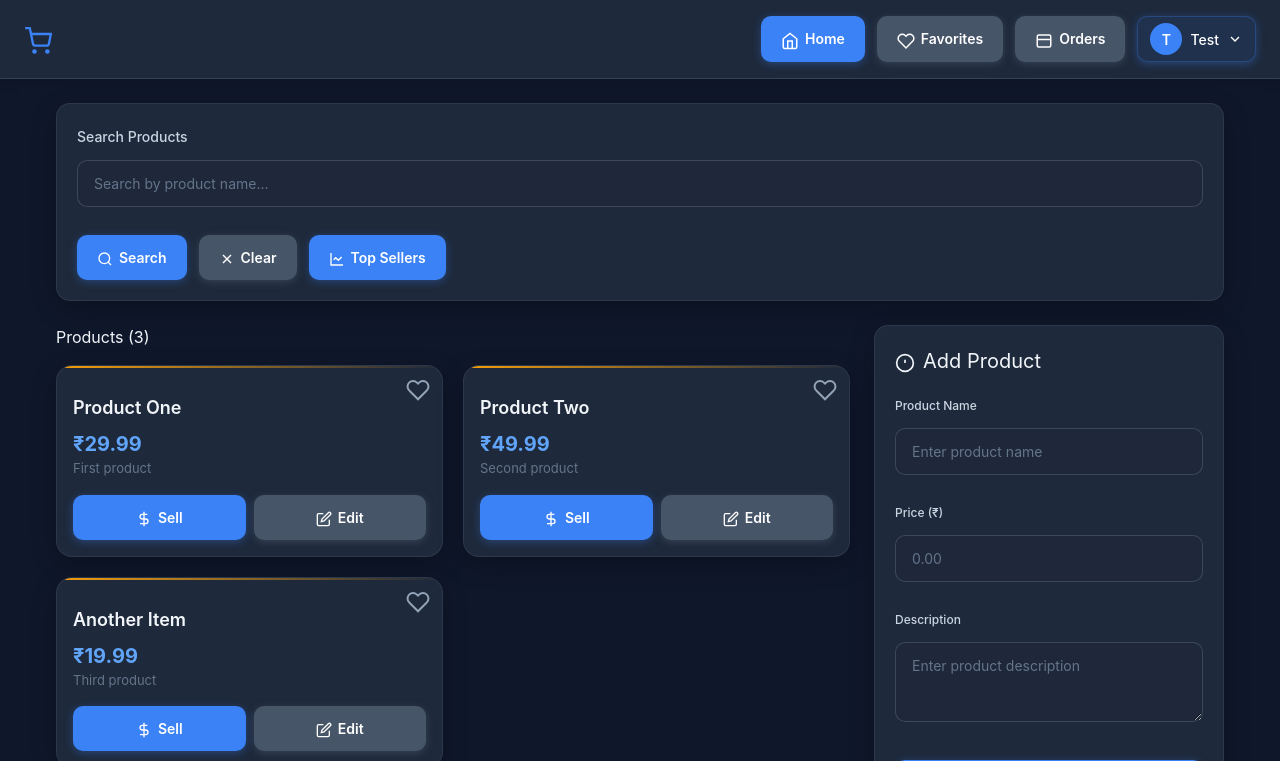
Product Management Integration Tests › TC2: Product Search › TC2.3: should clear search and show all products
Expected: the heading "Product One" is shown, [73,397,182,418]
Type "Test" into the field labelled "Search Products".
click(640, 184); type("Test")  # box [77,160,1203,207]
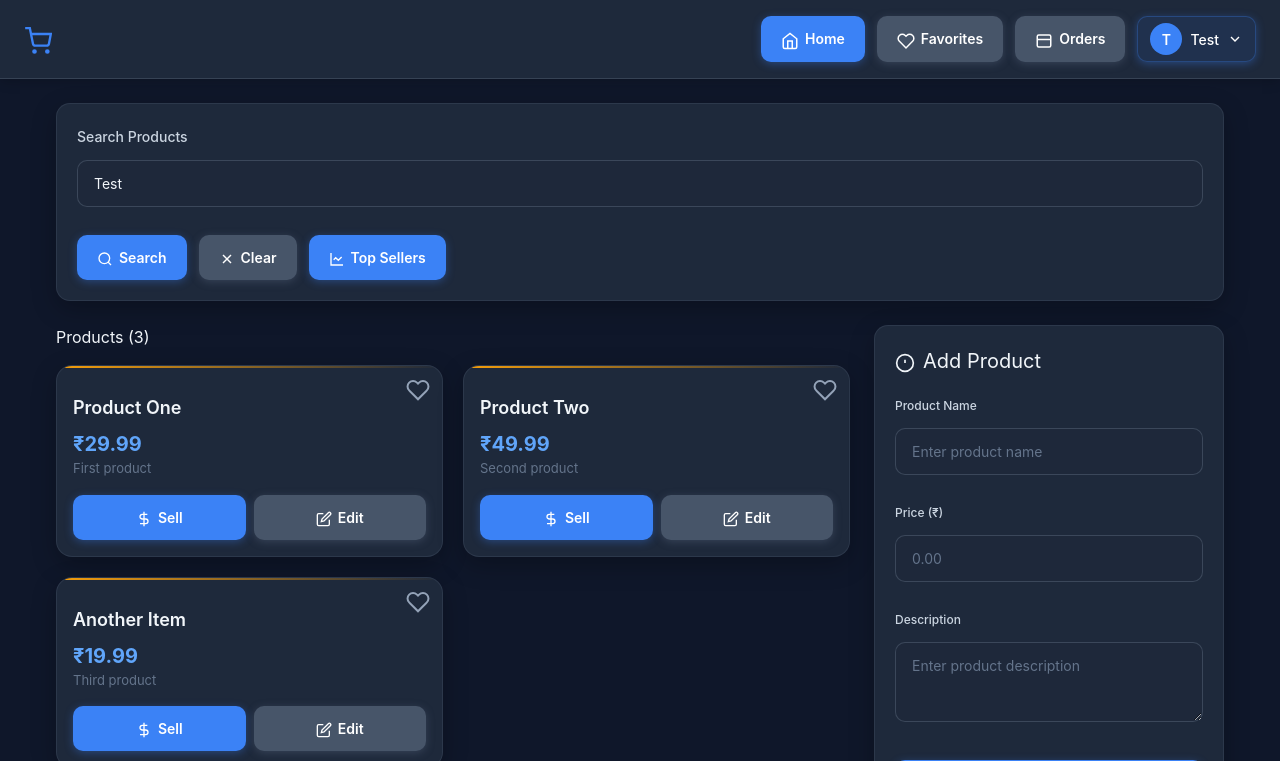
Click the button "Clear".
click(248, 258)  # box [198,235,296,280]
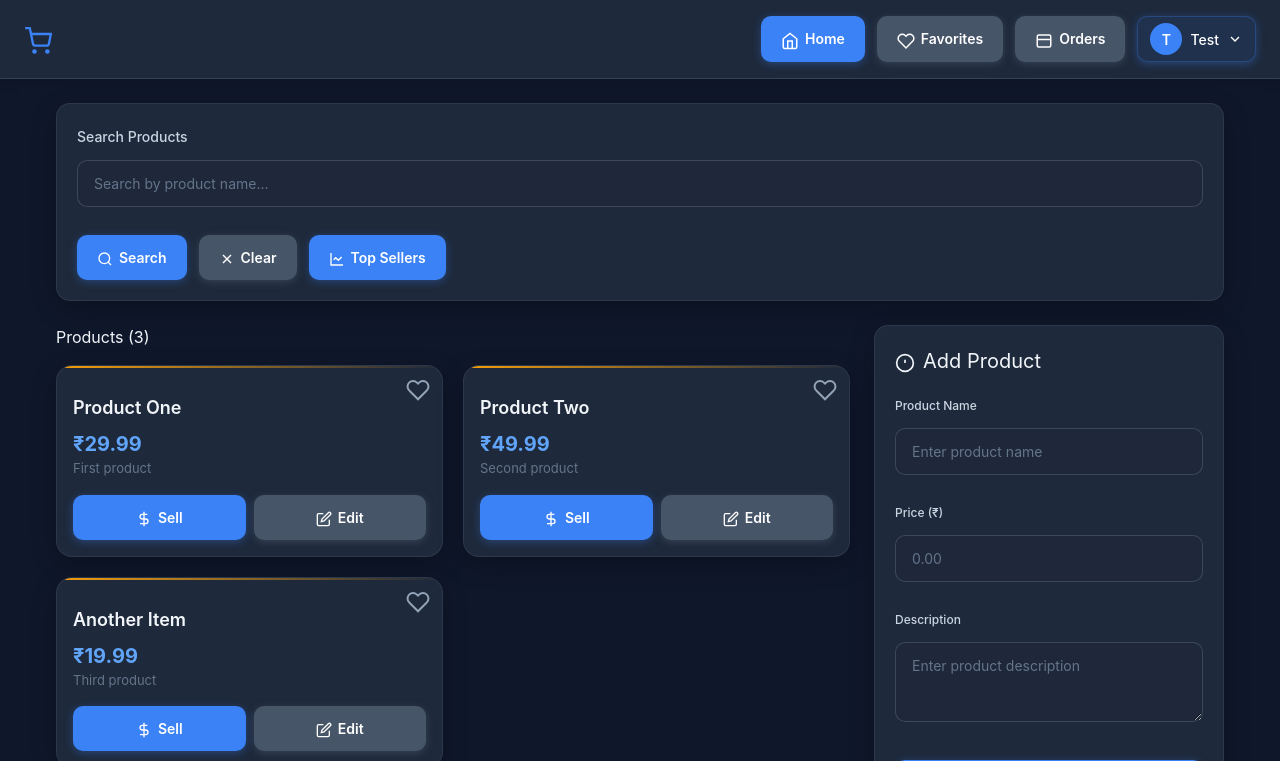
Expected: the field labelled "Search Products" is empty, [77,160,1203,207]
